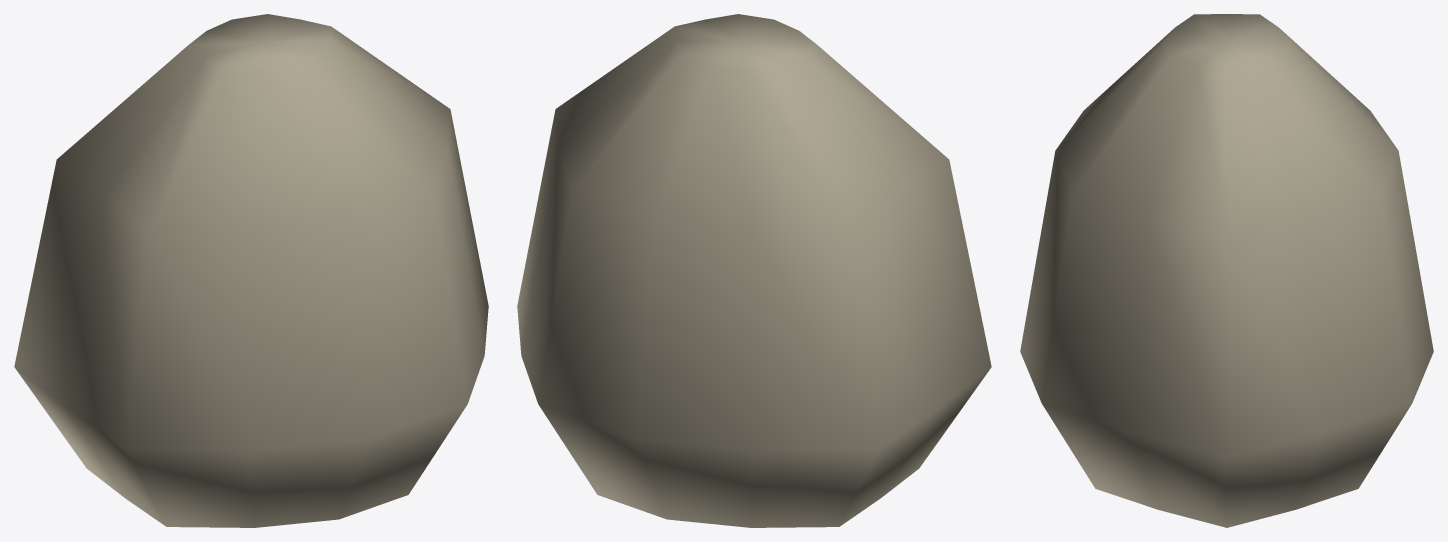
The model's file is rock.glb.
The picture shows the model from 3 angles, left to right: view 1: azimuth 30°, elevation 25°; view 2: azimuth 150°, elevation 25°; view 3: azimuth 270°, elevation 25°; orthographic projection. The views are drawn at different scales.
Parts seen in each view (by area): view 1: single-flat-based-rock; view 2: single-flat-based-rock; view 3: single-flat-based-rock.
Part boxes in pixels (x1,y1,x2,y2): single-flat-based-rock: [14, 14, 488, 527]; single-flat-based-rock: [517, 14, 991, 527]; single-flat-based-rock: [1020, 14, 1433, 527].
Size of the model in its own units: 0.8 by 0.766 by 0.7.
